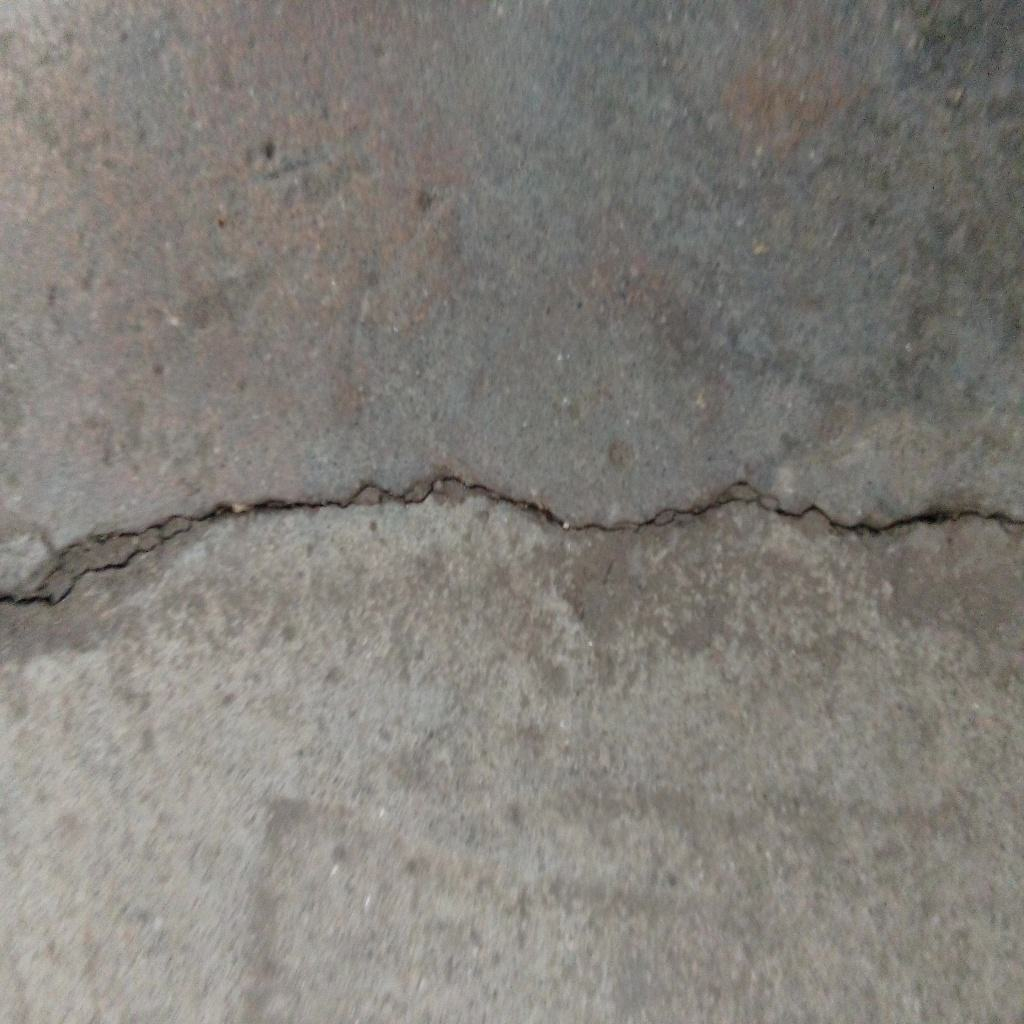Crack: (1, 473, 1024, 607)
